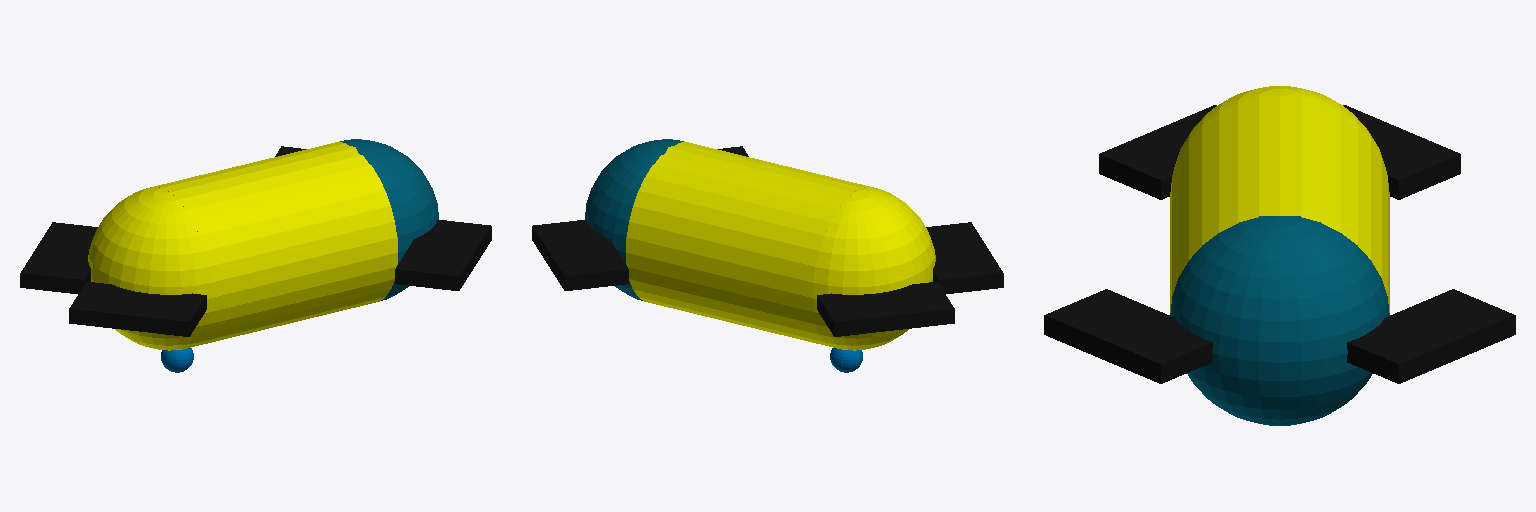
robot.urdf — girona500:
<?xml version="1.0"?>
<robot name="girona500">

	<link name="base_link_">
		<visual>
			<geometry>
				<sphere radius="0.01" />
			</geometry>
			<material name="red">
				<color rgba="0.9 0.0 0.0 1" />
			</material>
		</visual>
		<collision>
			<origin rpy="0 0 0"  xyz="0 0 0"/>
			<geometry>
				<cylinder radius="0.17" length="0.20" />
			</geometry>
		</collision>
	</link>

	<link name="base_link">
		<visual>
			<origin rpy="0 -1.57 0" xyz="0 0 0" />
			<geometry>
				<cylinder radius="0.05" length="0.13" />
			</geometry>
			<material name="yellow">
				<color rgba="0.9 0.9 0.0 1" />
			</material>
		</visual>
	</link>

	<joint name="base_to_baselink" type="fixed">
		<parent link="base_link_" />
		<child link="base_link" />
		<origin rpy="0 0 0" xyz="0 0 0" />
	</joint>
	
	<link name="cameracentre">
		<visual>
			<material name="black">
			  <color rgba="0.0 0.0 0.0 1.0" />
			</material>
			<geometry>
				<sphere radius="0.000"/>
			</geometry>
			
		</visual>
		<collision>
			<geometry>
				<sphere radius="0.0"/>
			</geometry>
		</collision>
	</link>

	<joint name="base_to_cameracentre" type="fixed">
		<parent link="base_link_" />
		<child link="cameracentre" />
		<origin rpy="-1.77 0 1.57" xyz="0.07 0 -0.05" />
	</joint>

	<link name="tail">
		<visual>
			<origin rpy="0 0 0" xyz="0 0 0" />
			<geometry>
				<sphere radius="0.05" />
			</geometry>
			<material name="yellow"/>
		</visual>
	</link>

	<joint name="baselink_to_tail" type="fixed">
		<parent link="base_link" />
		<child link="tail" />
		<origin rpy="0 0 0" xyz="-0.065 0 0" />
	</joint>

	<link name="dot">
		<visual>
			<origin rpy="0 0 0" xyz="0 0 0" />
			<geometry>
				<sphere radius="0.01" />
			</geometry>
		</visual>
	</link>

	<joint name="baselink_to_dot" type="fixed">
		<parent link="base_link" />
		<child link="dot" />
		<origin rpy="0 0 0" xyz="-0.06 0 -0.06" />
	</joint>

	<link name="nose">
		<visual>
			<origin rpy="0 0 0" xyz="0 0 0" />
			<geometry>
				<sphere radius="0.05" />
			</geometry>
			<material name="glass">
				<color rgba="0.035 0.388 0.475 1" />
			</material>
		</visual>
	</link>

	<joint name="baselink_to_nose" type="fixed">
		<parent link="base_link" />
		<child link="nose" />
		<origin rpy="0 0 0" xyz="0.065 0 0" />
	</joint>

	<!-- motor 1 -->
	<link name="frontrightflipper">
		<visual>
			<origin rpy="0 0 0" xyz="-0.0175 0.02 0" />
			<geometry>
				<box size="0.075 0.04 0.01" />
			</geometry>
			<material name="grey">
				<color rgba="0.1 0.1 0.1 1" />
			</material>
		</visual>
	</link>
	<joint name="baselink_to_frontrightflipper" type="continuous">
		<parent link="base_link" />
		<child link="frontrightflipper" />
		<origin rpy="0 0 -0.785" xyz="0.085 0.04 0" />
		<axis xyz="0 1 0" />
	</joint>
	<!-- motor 2 -->
	<link name="backrightflipper">
		<visual>
			<origin rpy="0 0 0" xyz="-0.0175 0.02 0" />
			<geometry>
				<box size="0.075 0.04 0.01" />
			</geometry>
			<material name="grey"/>
		</visual>
	</link>
	<joint name="baselink_to_backrightflipper" type="continuous">
		<parent link="base_link" />
		<child link="backrightflipper" />
		<origin rpy="0 0 0.785" xyz="-0.085 0.04 0" />
		<axis xyz="0 1 0" />
	</joint>
	<!-- motor 3 -->
	<link name="backleftflipper">
		<visual>
			<origin rpy="0 0 0" xyz="-0.0175 -0.02 0" />
			<geometry>
				<box size="0.075 0.04 0.01" />
			</geometry>
			<material name="grey"/>
		</visual>
	</link>
	<joint name="baselink_to_backleftflipper" type="continuous">
		<parent link="base_link" />
		<child link="backleftflipper" />
		<origin rpy="0 0 -0.785" xyz="-0.085 -0.04 0" />
		<axis xyz="0 1 0" />
	</joint>
	<!-- motor 4 -->
	<link name="frontleftflipper">
		<visual>
			<origin rpy="0 0 0" xyz="-0.0175 -0.02 0" />
			<geometry>
				<box size="0.075 0.04 0.01" />
			</geometry>
			<material name="grey"/>
		</visual>
	</link>
	<joint name="baselink_to_frontleftflipper" type="continuous">
		<parent link="base_link" />
		<child link="frontleftflipper" />
		<origin rpy="0 0 0.785" xyz="0.085 -0.04 0" />
		<axis xyz="0 1 0" />
	</joint>
</robot>

--- What the picture shows (computed from the rendered views, not written in the file) ---
The picture shows the robot from 3 angles, left to right: view 1: azimuth 30°, elevation 25°; view 2: azimuth 150°, elevation 25°; view 3: azimuth 270°, elevation 25°; orthographic projection.
Model girona500 with 10 links and 9 joints (4 continuous, 5 fixed), rooted at base_link_, posed every joint at zero.
Links seen in each view (by area): view 1: base_link, tail, backleftflipper, frontleftflipper, nose, backrightflipper, dot; view 2: base_link, tail, backrightflipper, frontrightflipper, nose, backleftflipper, dot; view 3: nose, base_link, frontrightflipper, frontleftflipper, backrightflipper, backleftflipper, tail.
Link boxes in pixels (left/top/right/bottom): base_link: left=150, top=141, right=397, bottom=346; tail: left=88, top=187, right=211, bottom=350; backleftflipper: left=69, top=282, right=206, bottom=336; frontleftflipper: left=395, top=220, right=491, bottom=290; nose: left=340, top=139, right=438, bottom=300; backrightflipper: left=20, top=222, right=97, bottom=293; dot: left=161, top=348, right=193, bottom=372; base_link: left=626, top=141, right=873, bottom=346; tail: left=812, top=187, right=935, bottom=350; backrightflipper: left=817, top=282, right=954, bottom=336; frontrightflipper: left=532, top=220, right=628, bottom=290; nose: left=585, top=139, right=683, bottom=300; backleftflipper: left=926, top=222, right=1003, bottom=293; dot: left=830, top=348, right=862, bottom=372; nose: left=1170, top=216, right=1389, bottom=425; base_link: left=1170, top=96, right=1389, bottom=312; frontrightflipper: left=1347, top=289, right=1515, bottom=383; frontleftflipper: left=1044, top=289, right=1212, bottom=383; backrightflipper: left=1343, top=105, right=1460, bottom=199; backleftflipper: left=1099, top=105, right=1216, bottom=199; tail: left=1173, top=86, right=1386, bottom=171.
Size in the robot's own frame: 0.2796 by 0.2143 by 0.1201 metres.
Geometry: primitives only (box / cylinder / sphere), no mesh files.
